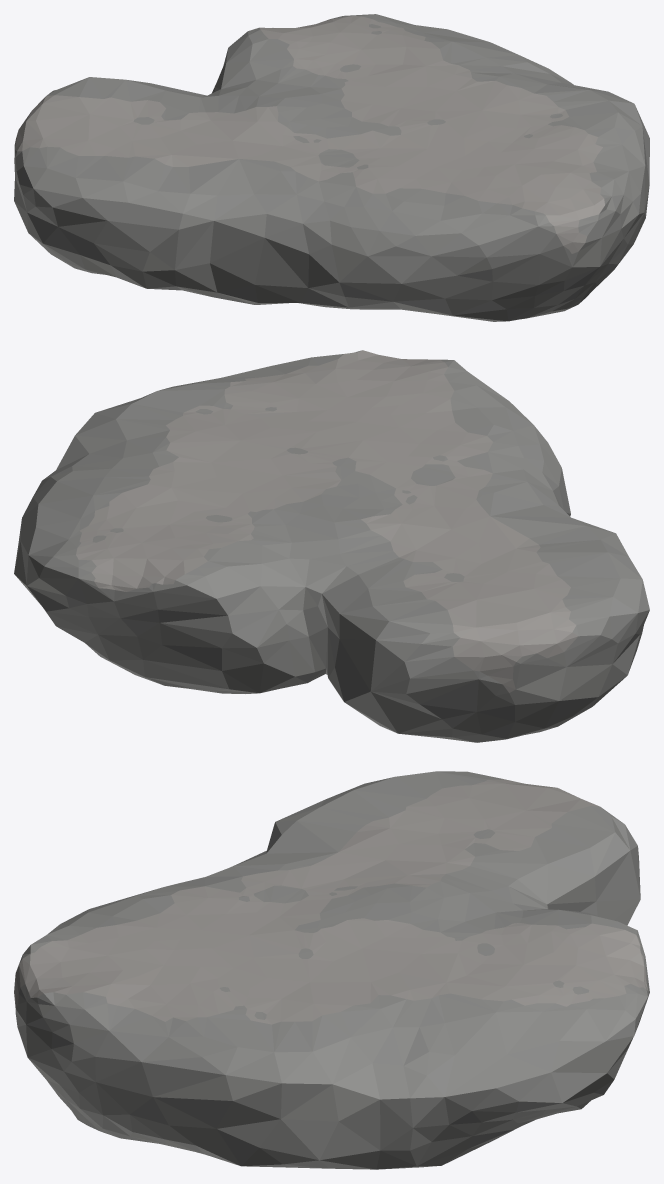
The model's file is Cavern_Floor_Narrow_Intersection-01.fbx.
3 views of the same model, one above another, from view 1: azimuth 30°, elevation 25°; view 2: azimuth 150°, elevation 25°; view 3: azimuth 270°, elevation 25° (orthographic). The views are drawn at different scales.
Visible parts, largest first — view 1: Cavern_Floor_Narrow_Intersection-01; view 2: Cavern_Floor_Narrow_Intersection-01; view 3: Cavern_Floor_Narrow_Intersection-01.
Part boxes in pixels (x1,y1,x2,y2): Cavern_Floor_Narrow_Intersection-01: [14, 14, 649, 321]; Cavern_Floor_Narrow_Intersection-01: [14, 350, 649, 742]; Cavern_Floor_Narrow_Intersection-01: [14, 771, 649, 1169].
Bounding box in the file's own units: 1987 × 499 × 1737.
1 material, 1 textured.
